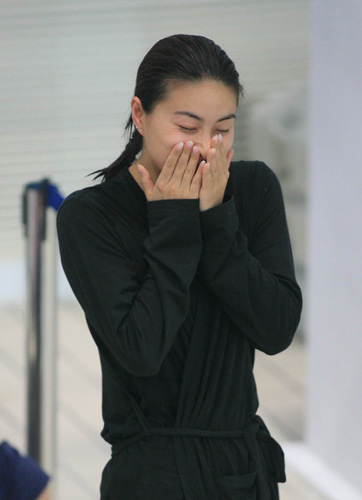face: (147, 79, 235, 199)
